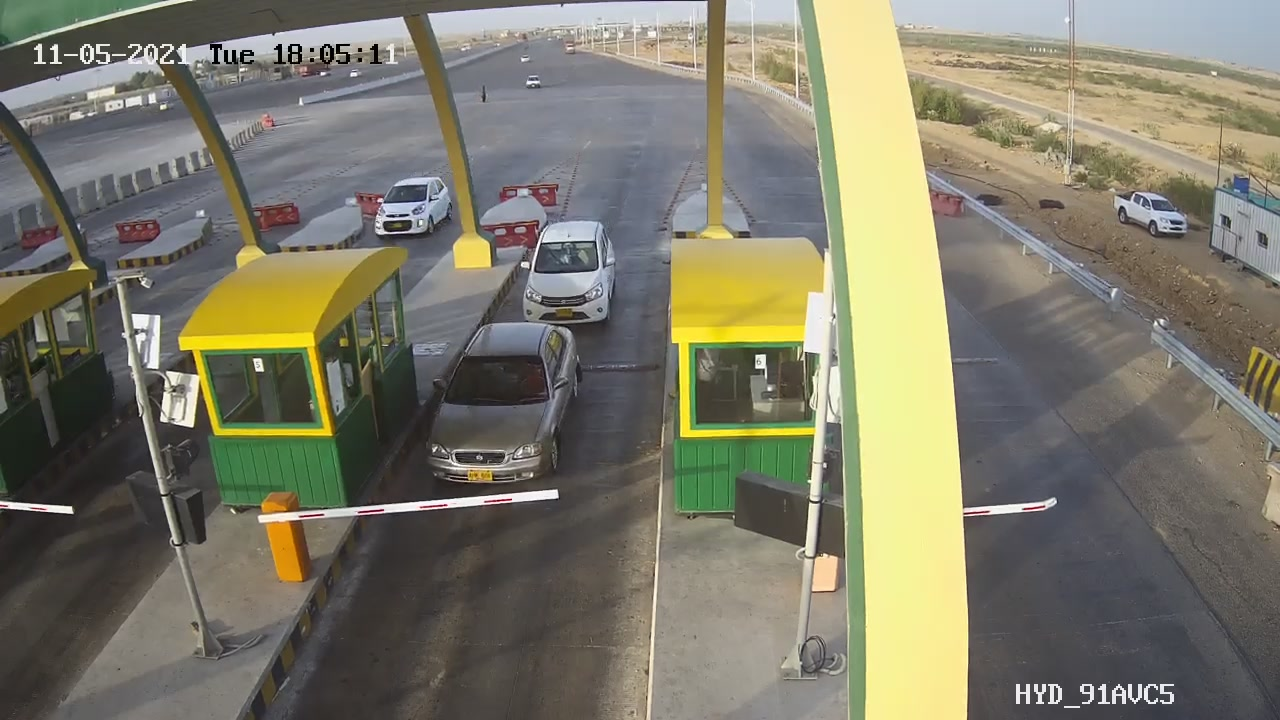F1: (414, 321, 603, 491), (511, 209, 633, 324)
